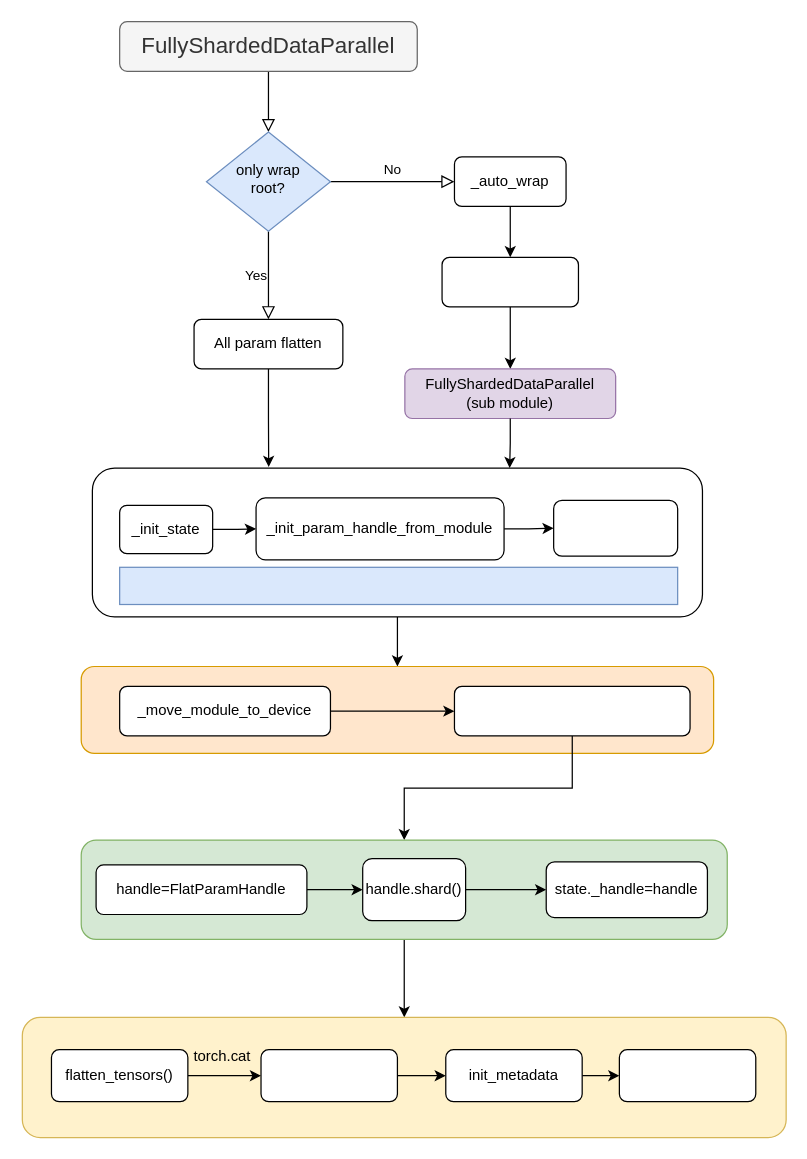
Some shapes in this 807 by 1159 pixel diagram are drawn without their labels. Here are the shapes that lost their labels. From the top down, the centre of each, then its label:
At (x=509, y=281): "_recursive_wrap".
At (x=615, y=527): "other_states".
At (x=398, y=585): "cast(nn.Module, module.module)._parameters[FLAT_PARAM] = handle.flat_param".
At (x=571, y=710): "_init_param_handle_from_params".
At (x=328, y=1075): "FlatParameter (handle.flat_param)".
At (x=687, y=1075): "_get_unflat_ views_unaligned".
